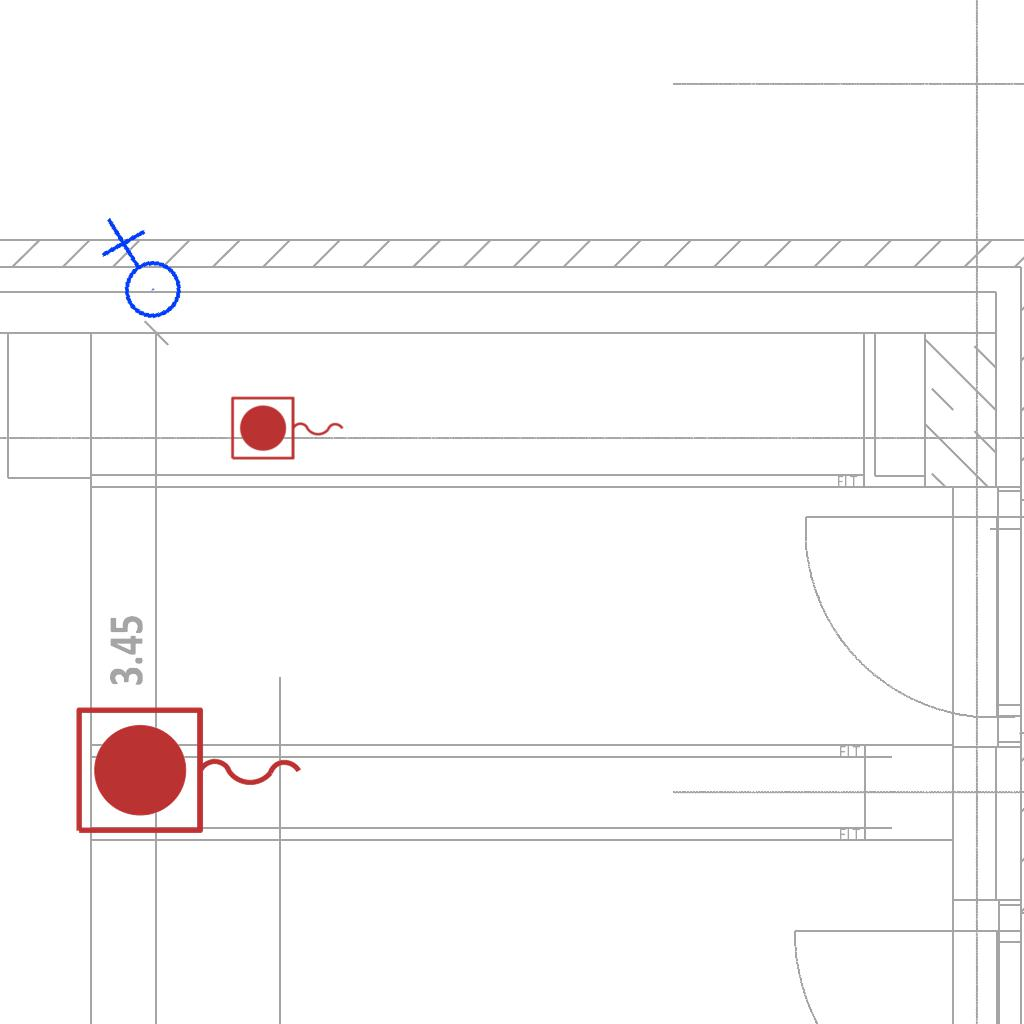Elektroanschluss_allgemein_230V_Geraeteanschlussdose_230V: (82, 215, 195, 333)
Zugtaster: (68, 700, 312, 844), (227, 393, 349, 465)
